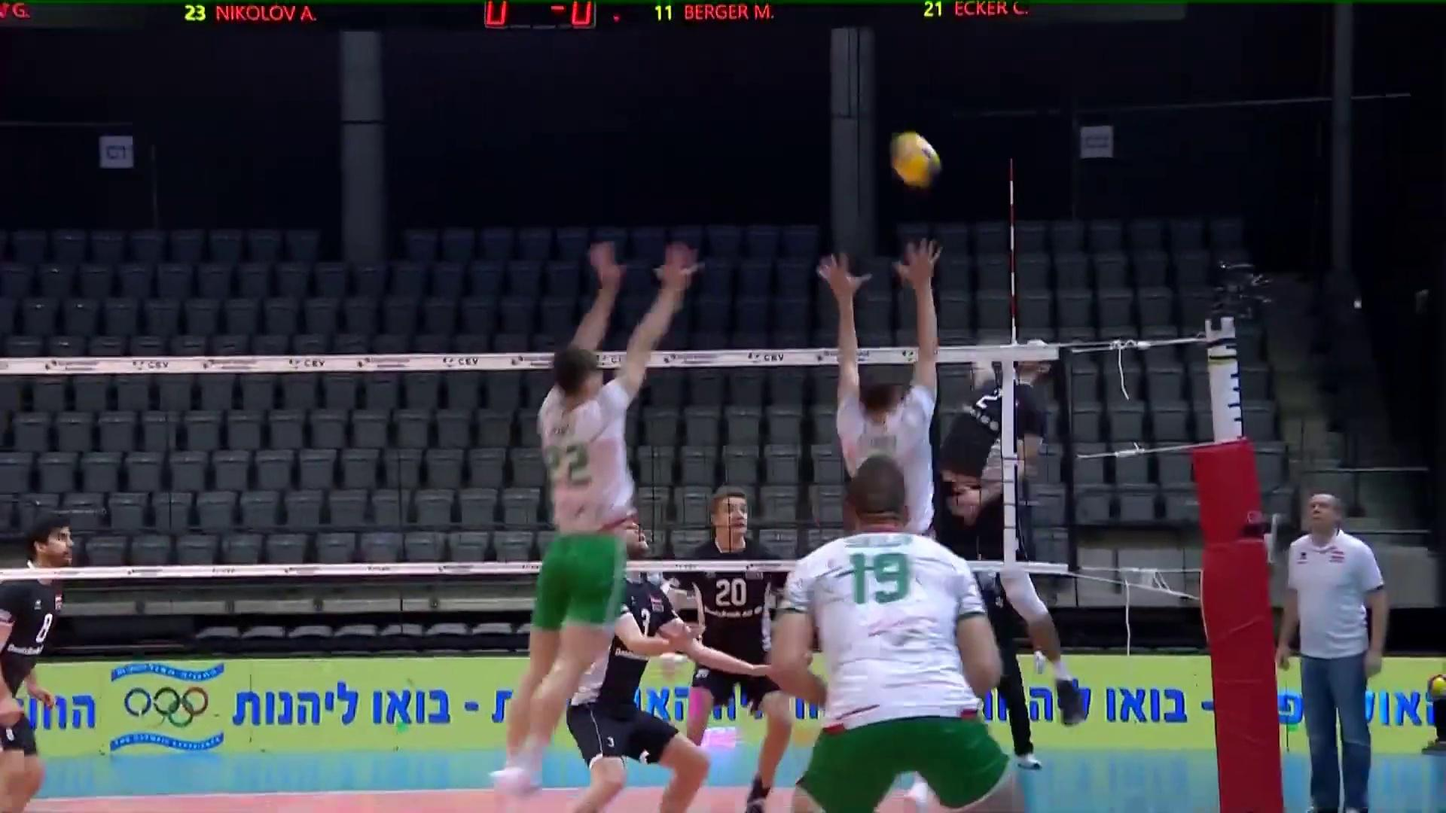ball: (892, 130, 946, 188)
